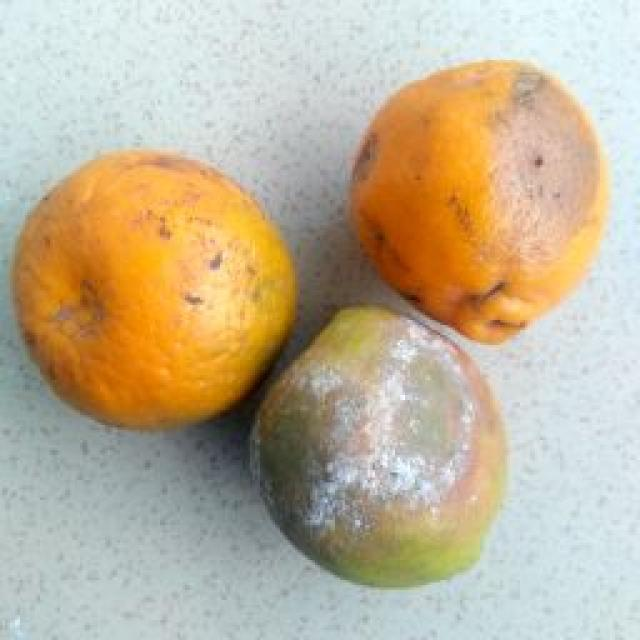Bad_Orange: (350, 60, 608, 343), (251, 308, 504, 586)
